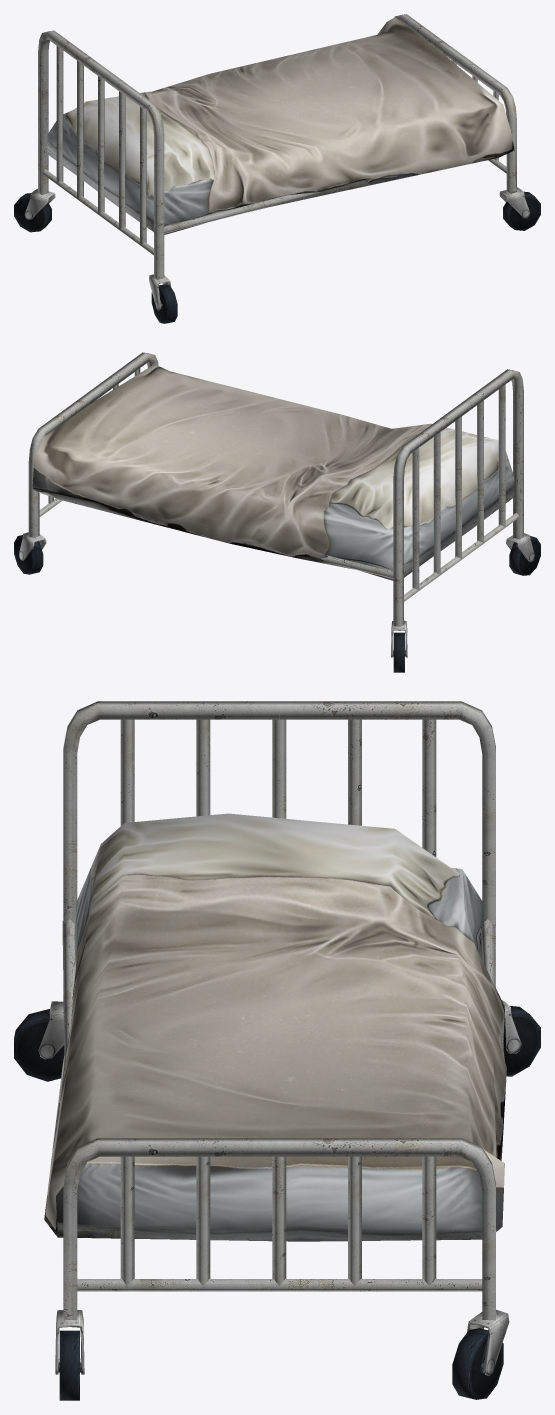
Rendered from hospital_bed.glb.
3 renders of one model, top to bottom at view 1: azimuth 30°, elevation 25°; view 2: azimuth 150°, elevation 25°; view 3: azimuth 270°, elevation 25°, orthographic. The views are drawn at different scales.
Visible parts, largest first — view 1: Hospital_Bed; view 2: Hospital_Bed; view 3: Hospital_Bed.
Boxes of the visible parts, left/top/right/bottom form: Hospital_Bed: left=14, top=14, right=540, bottom=323; Hospital_Bed: left=14, top=352, right=540, bottom=672; Hospital_Bed: left=14, top=701, right=540, bottom=1400.
Size of the model in its own units: 2.08 by 1.04 by 1.32.
1 material, 1 textured.
